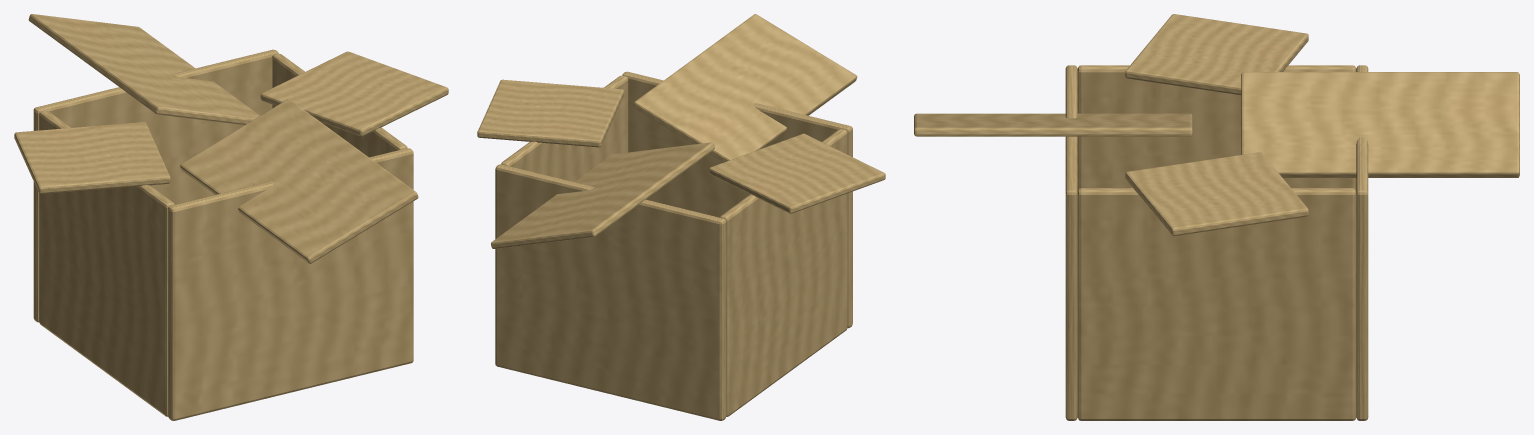
Rendered from crate.glb.
3 views of the same model, side by side, from view 1: azimuth 30°, elevation 25°; view 2: azimuth 150°, elevation 25°; view 3: azimuth 270°, elevation 25° (orthographic). The views are drawn at different scales.
Parts seen in each view (by area): view 1: wall_front, wall_left, flap1, wall_back, flap0, flap2, flap3, wall_right; view 2: wall_back, wall_left, flap1, flap0, wall_front, flap2, flap3, wall_right; view 3: wall_right, flap0, wall_left, flap3, flap2, flap1, wall_front, wall_back.
Boxes of the visible parts, left/top/right/bottom form: wall_front: left=168, top=148, right=413, bottom=420; wall_left: left=39, top=110, right=174, bottom=416; flap1: left=180, top=99, right=418, bottom=263; wall_back: left=33, top=49, right=278, bottom=322; flap0: left=28, top=14, right=259, bottom=124; flap2: left=14, top=122, right=170, bottom=193; flap3: left=260, top=51, right=448, bottom=136; wall_right: left=272, top=53, right=407, bottom=157; wall_back: left=495, top=164, right=726, bottom=420; wall_left: left=720, top=129, right=847, bottom=416; flap1: left=633, top=14, right=857, bottom=162; flap0: left=491, top=142, right=714, bottom=248; wall_front: left=622, top=71, right=852, bottom=328; flap2: left=709, top=133, right=885, bottom=213; flap3: left=477, top=79, right=624, bottom=147; wall_right: left=501, top=75, right=628, bottom=181; wall_right: left=1077, top=188, right=1356, bottom=420; flap0: left=1241, top=72, right=1519, bottom=177; wall_left: left=1077, top=65, right=1356, bottom=190; flap3: left=1125, top=152, right=1308, bottom=236; flap2: left=1125, top=14, right=1308, bottom=94; flap1: left=914, top=113, right=1192, bottom=136; wall_front: left=1065, top=65, right=1077, bottom=420; wall_back: left=1356, top=65, right=1368, bottom=420.
Bounding box in the file's own units: 0.8431 × 0.4703 × 1.
Materials: 2 (1 with a texture image).
